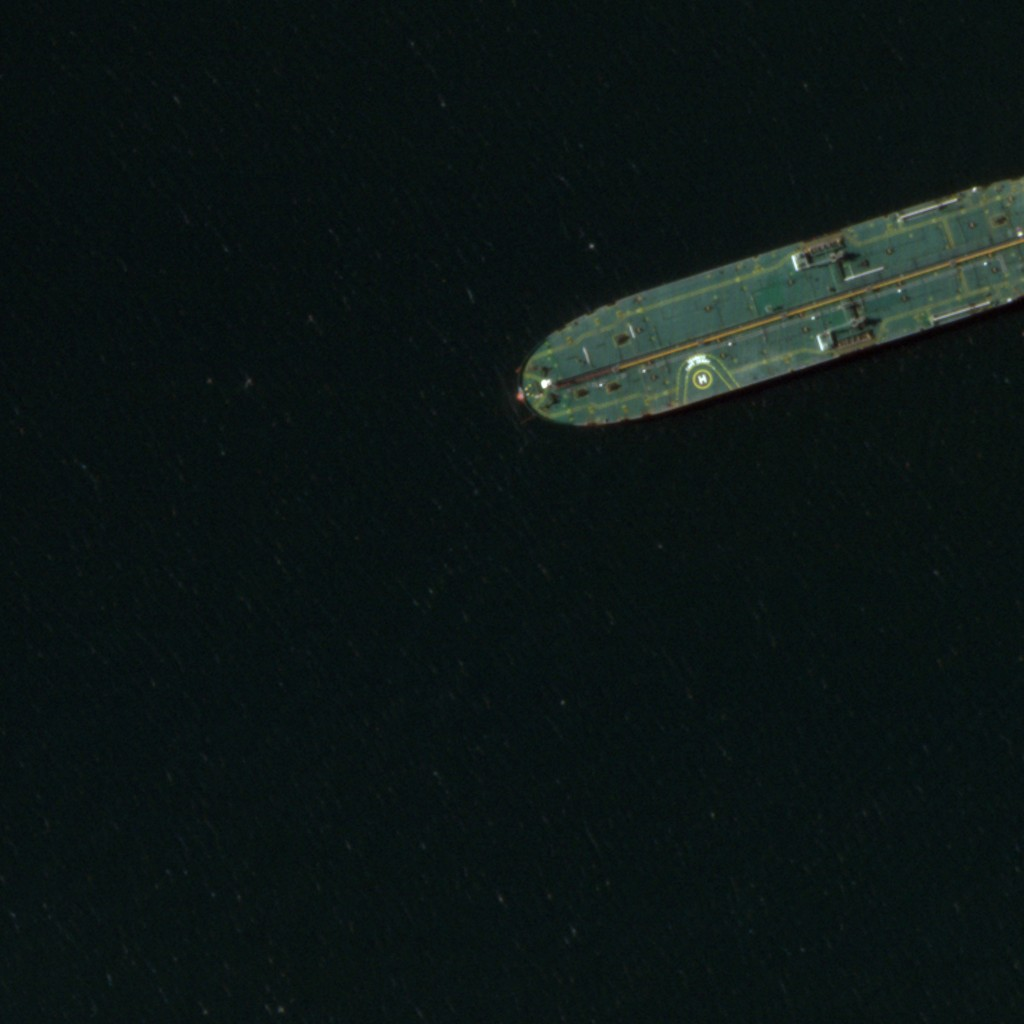boats: (516, 182, 1021, 430)
